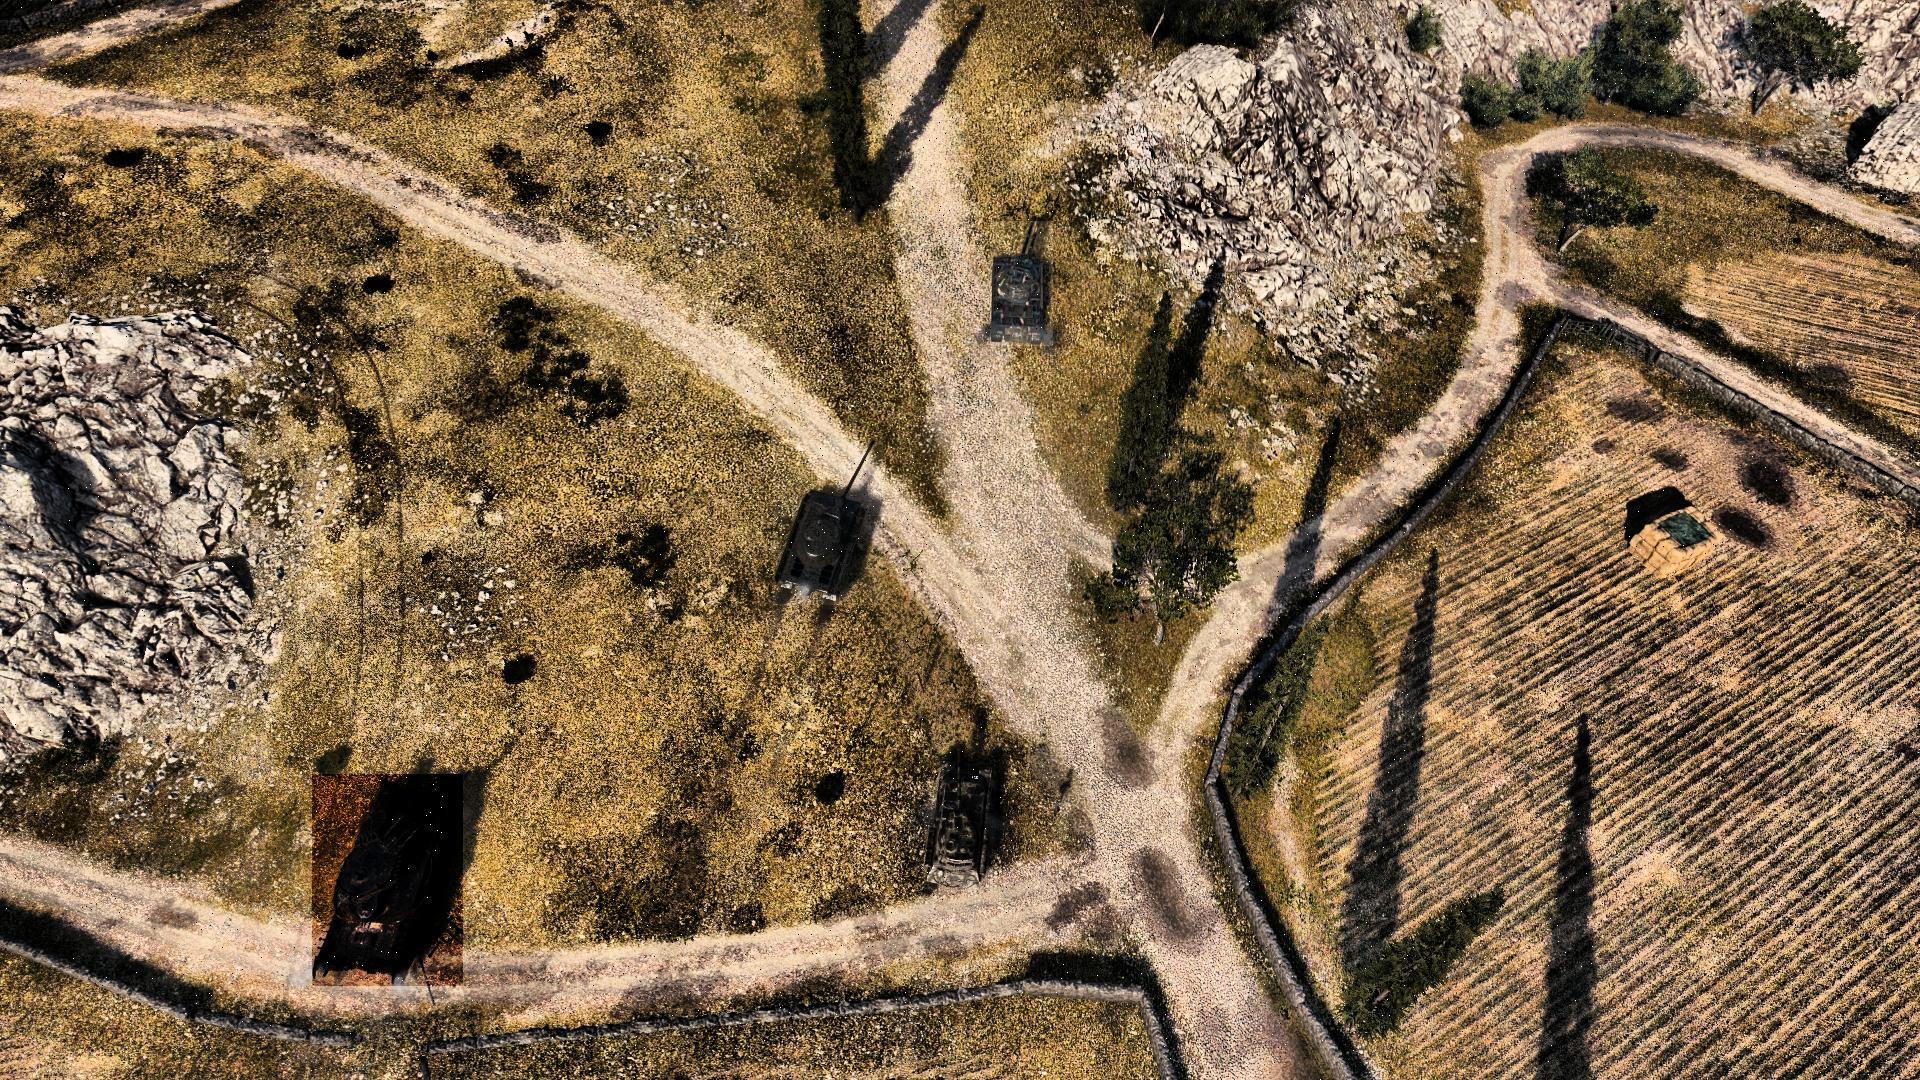military-vehicle: (311, 775, 463, 986), (773, 440, 884, 605), (924, 744, 997, 891), (990, 222, 1054, 347)
